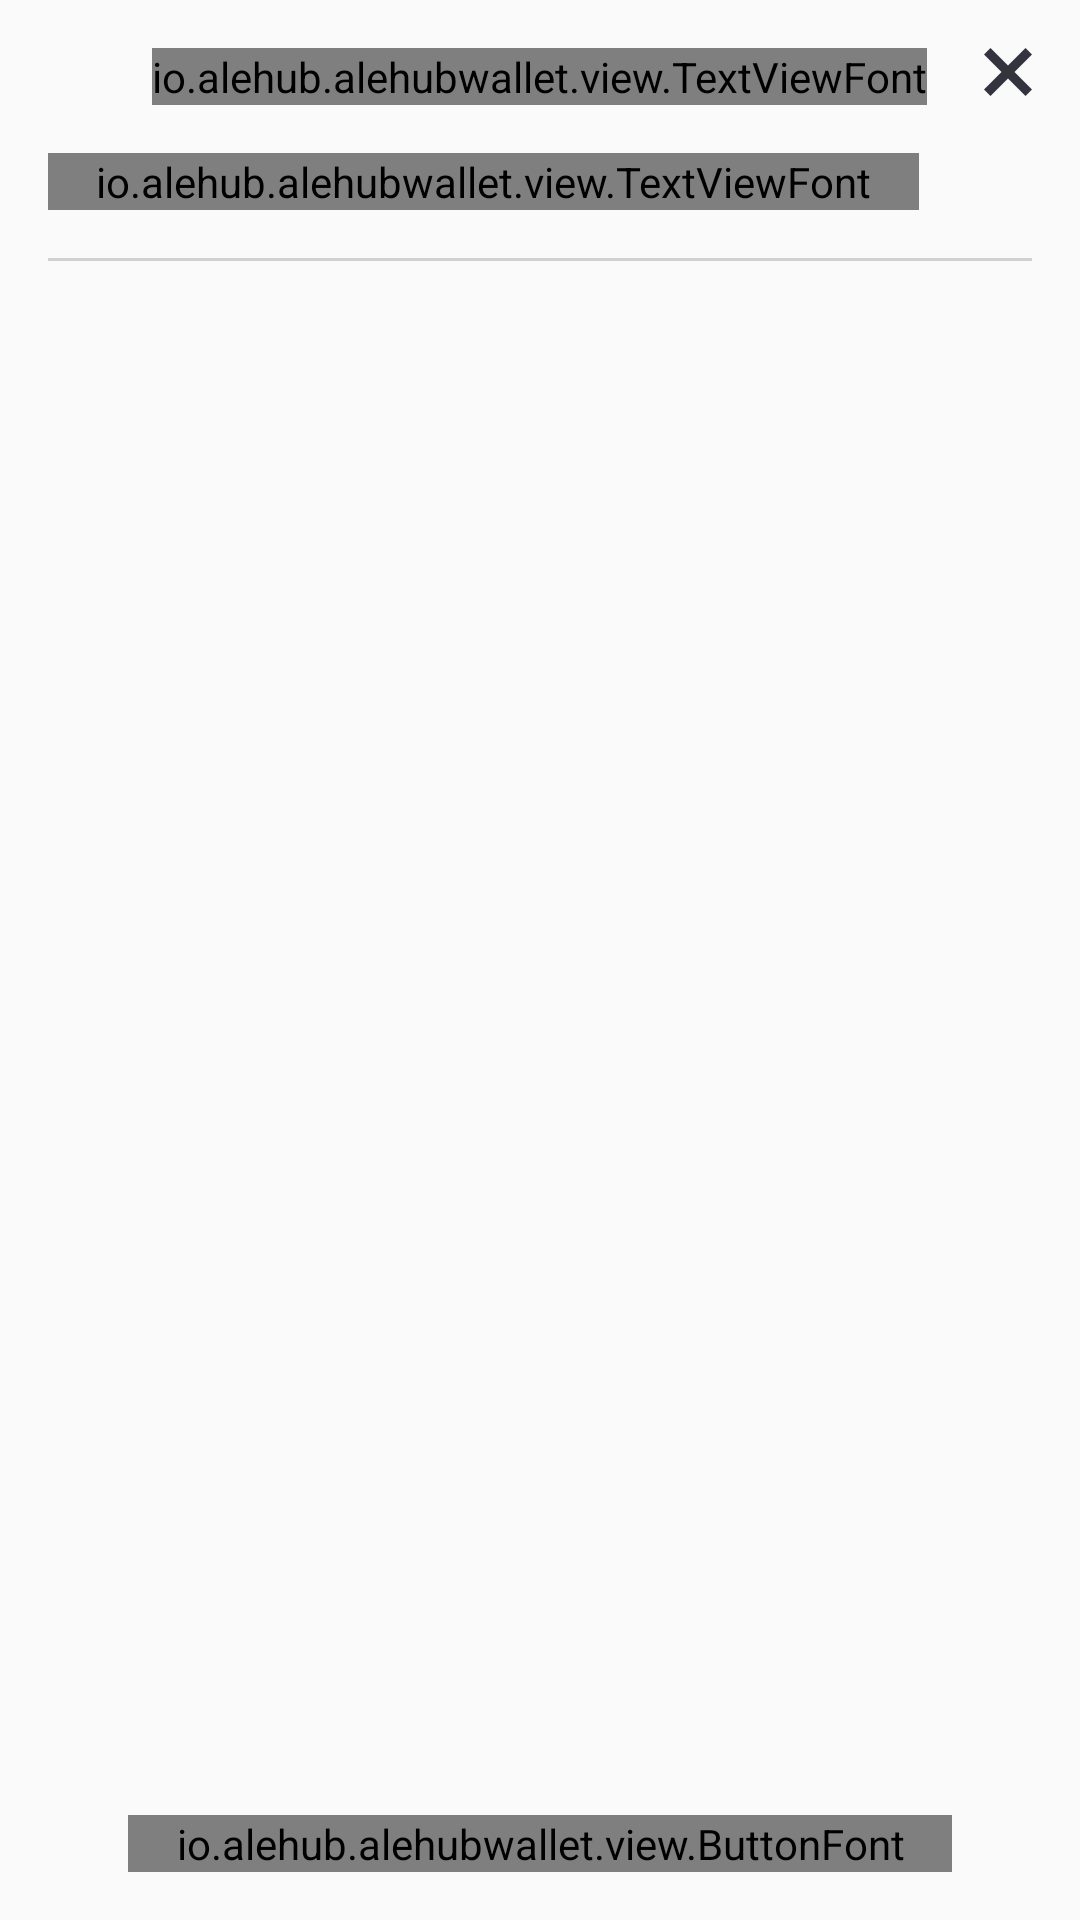

Icon bounding boxes for this 1080x1920 phone screenshot, format (x1, y1, x2, y2):
close cross: (984, 48, 1032, 96)
